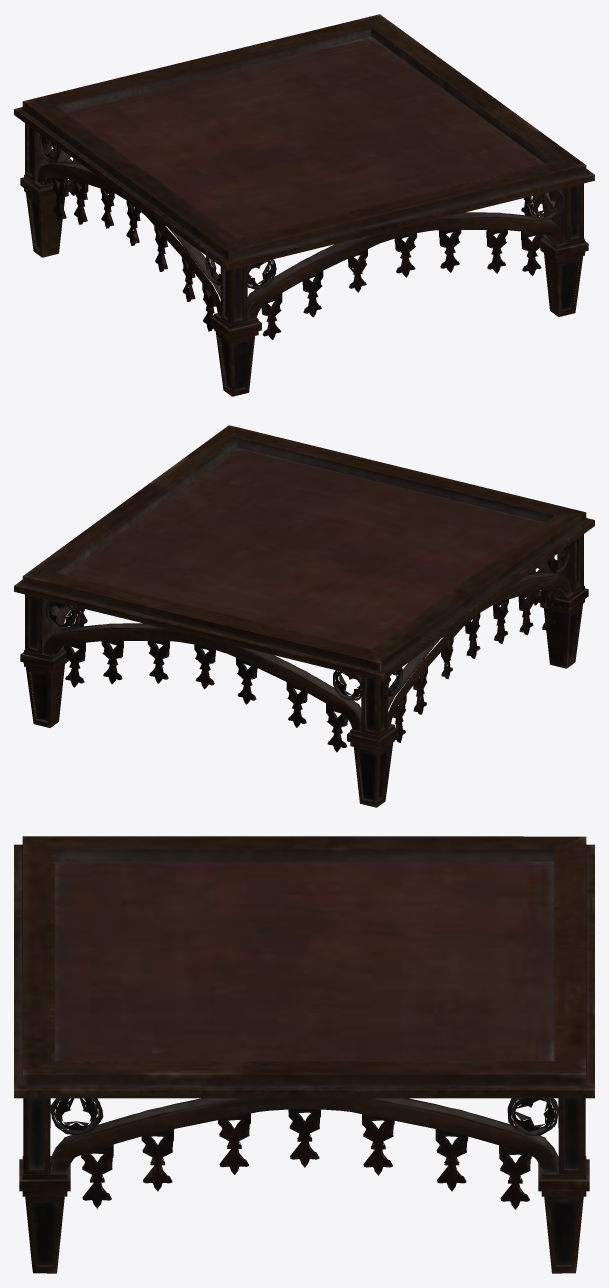
File: gothic_coffee_table.glb
3 renders of one model, top to bottom at view 1: azimuth 30°, elevation 25°; view 2: azimuth 150°, elevation 25°; view 3: azimuth 270°, elevation 25°, orthographic. The views are drawn at different scales.
Visible parts, largest first — view 1: gothic_coffee_table; view 2: gothic_coffee_table; view 3: gothic_coffee_table.
Boxes of the visible parts, x1=… form: gothic_coffee_table: x1=14, y1=14, x2=594, y2=396; gothic_coffee_table: x1=14, y1=425, x2=594, y2=807; gothic_coffee_table: x1=14, y1=836, x2=594, y2=1273.
Size of the model in its own units: 1.44 by 0.5578 by 1.44.
Materials: 1 (1 with a texture image).
